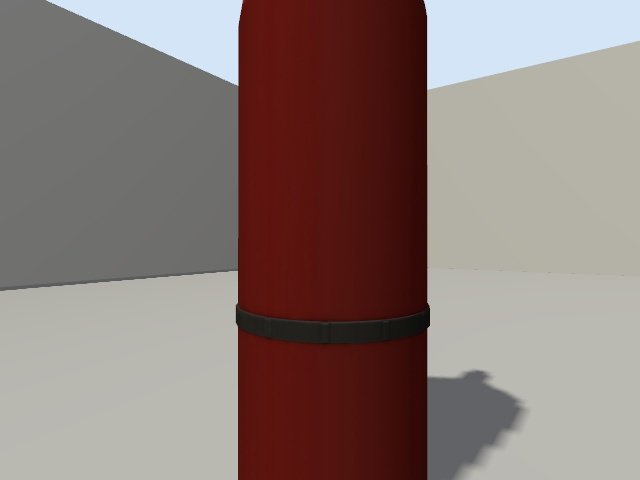extincteur: (236, 0, 429, 479)
